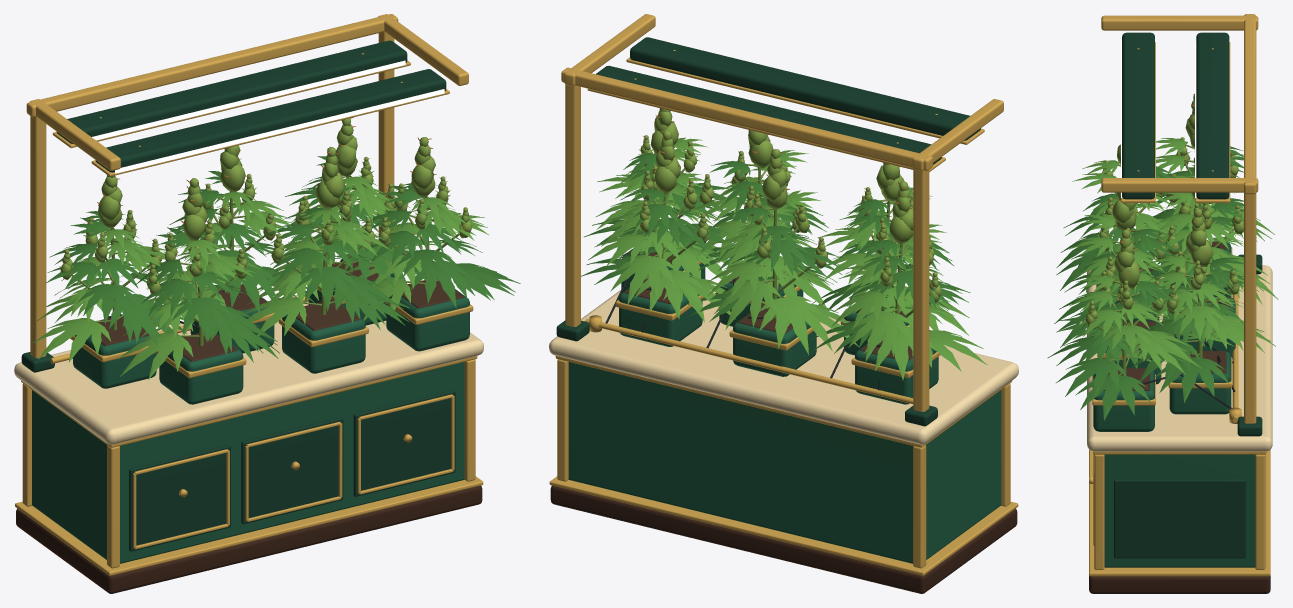
The model's file is grow_bench_tier4.glb.
The picture shows the model from 3 angles, left to right: view 1: azimuth 30°, elevation 25°; view 2: azimuth 150°, elevation 25°; view 3: azimuth 270°, elevation 25°; orthographic projection. The views are drawn at different scales.
Parts seen in each view (by area): view 1: Body, Top, Plinth, LedBar0, LedBar1, Panel1, Panel2, Panel0, BackBeam, PlinthBrass, Post-1, P4Pot (+43 smaller); view 2: Body, Top, Plinth, LedBar0, BackBeam, PlinthBrass, Post-1, LedBar1, Post1, P1Pot, P2Pot, DripHeader (+32 smaller); view 3: EndPanel, Top, Body, LedBar1, LedBar0, Plinth, PlinthBrass, Post1, Arm-1, BackBeam, Arm1, P5Pot (+53 smaller).
Boxes of the visible parts, box(x1,y1,x2,y2) form: Body: box(32, 362, 464, 563); Top: box(14, 295, 483, 444); Plinth: box(16, 485, 482, 593); LedBar0: box(95, 69, 446, 172); LedBar1: box(56, 40, 407, 143); Panel1: box(241, 417, 343, 524); Panel2: box(353, 390, 455, 496); Panel0: box(129, 445, 230, 551); BackBeam: box(26, 14, 398, 117); PlinthBrass: box(15, 476, 483, 575); Post-1: box(30, 116, 46, 358); P4Pot: box(282, 304, 365, 373); Body: box(568, 362, 1001, 563); Top: box(549, 290, 1018, 444); Plinth: box(550, 485, 1017, 593); LedBar0: box(630, 37, 980, 140); BackBeam: box(561, 67, 932, 170); PlinthBrass: box(549, 476, 1018, 575); Post-1: box(913, 169, 929, 411); LedBar1: box(596, 65, 941, 164); Post1: box(565, 84, 580, 326); P1Pot: box(733, 303, 816, 376); P2Pot: box(619, 287, 702, 346); DripHeader: box(585, 318, 913, 404); EndPanel: box(1114, 479, 1245, 558); Top: box(1087, 265, 1272, 451); Body: box(1104, 454, 1255, 567); LedBar1: box(1196, 32, 1229, 199); LedBar0: box(1122, 32, 1154, 199); Plinth: box(1089, 575, 1270, 593); PlinthBrass: box(1089, 450, 1270, 576); Post1: box(1244, 193, 1256, 423); Arm-1: box(1101, 15, 1258, 30); BackBeam: box(1244, 14, 1256, 194); Arm1: box(1101, 178, 1258, 192); P5Pot: box(1093, 371, 1154, 431).
Size of the model in its own units: 2.34 by 2.19 by 1.12.
